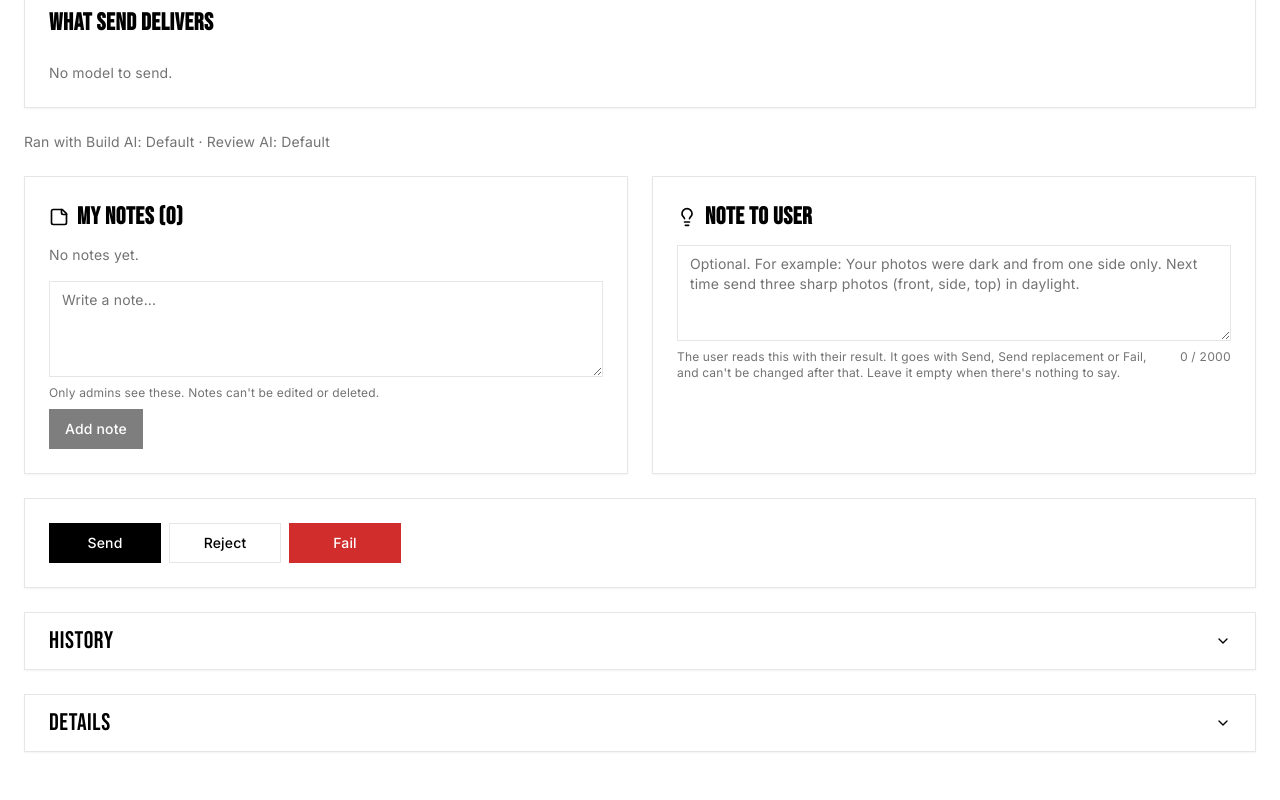
Test: AdminCadQueueDetailPage › enables Send only when every missing name is ticked
(page scrolled)
Click the button "Send" at (105, 543), box [49,523,161,563]
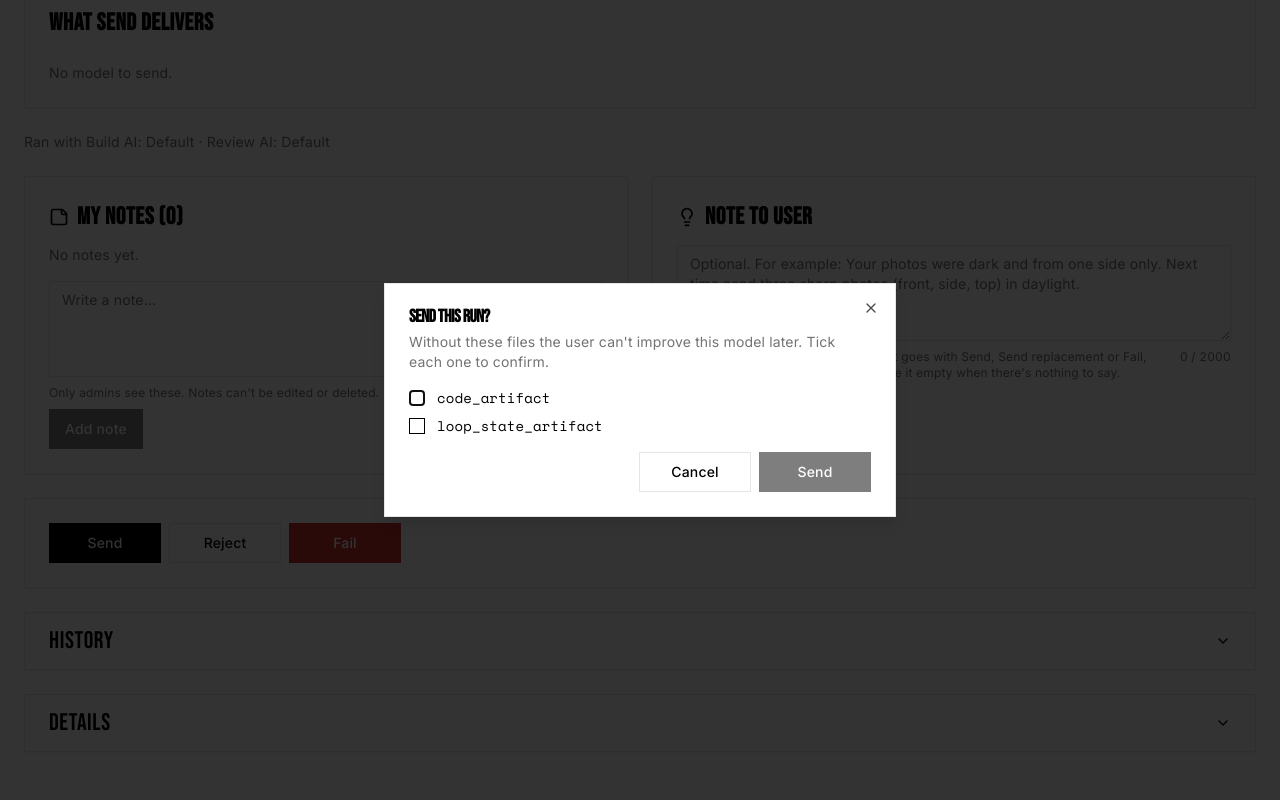
Now the text "Without these files the user can't improve this model later. Tick each one to confirm." is shown, box [409,333,835,370]
Now the button "Send" is disabled, box [759,452,871,492]
Click the checkbox named "code_artifact" next to "code_artifact" at (417, 398), box [409,390,425,406]
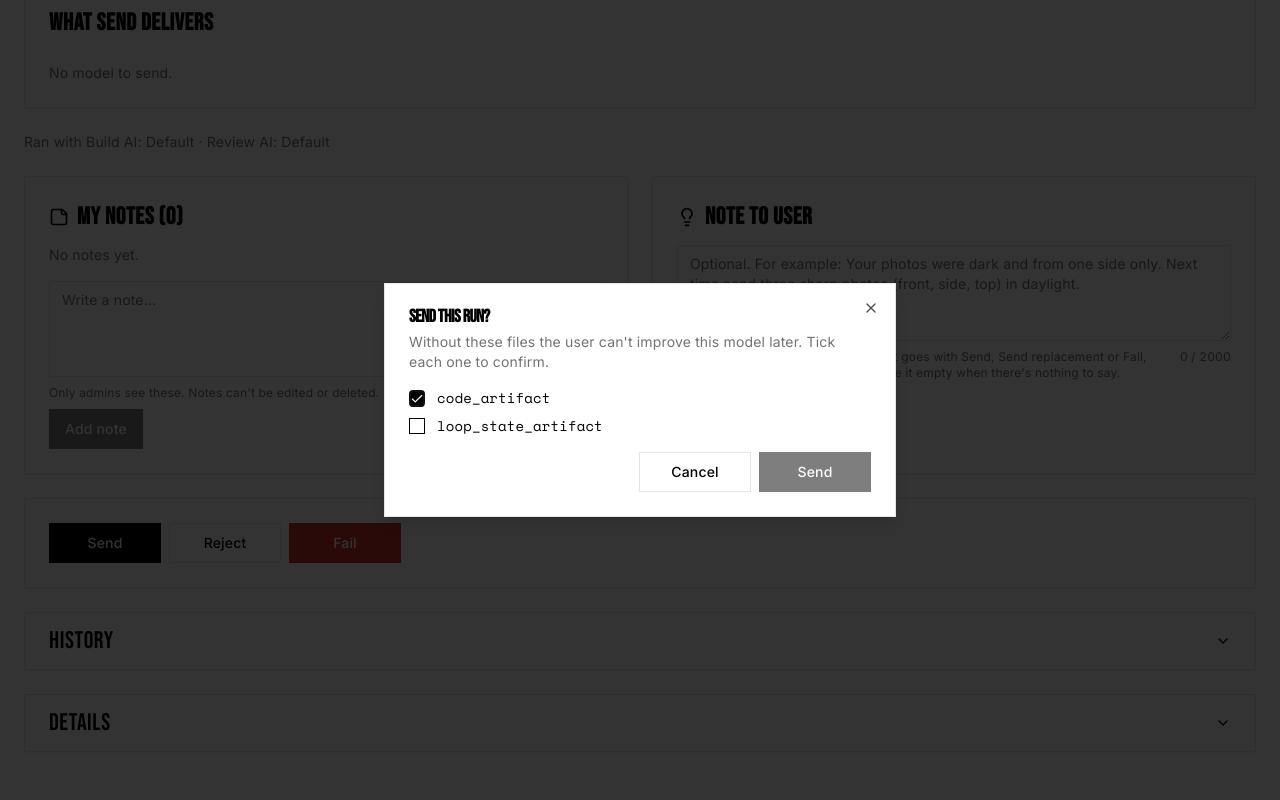
Now the button "Send" is disabled, box [759,452,871,492]
Click the checkbox named "loop_state_artifact" next to "loop_state_artifact" at (417, 426), box [409,418,425,434]
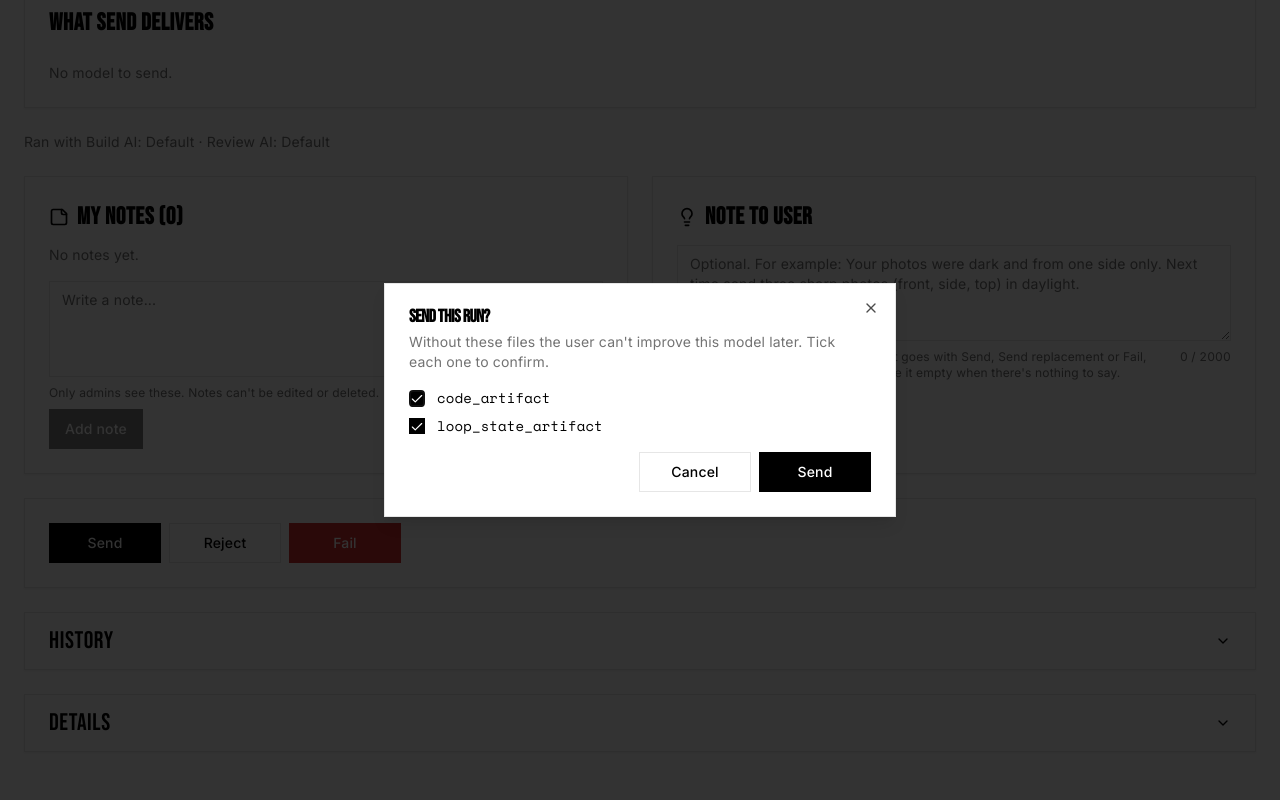
Now the button "Send" is enabled
Click the button "Send" at (815, 472), box [759,452,871,492]
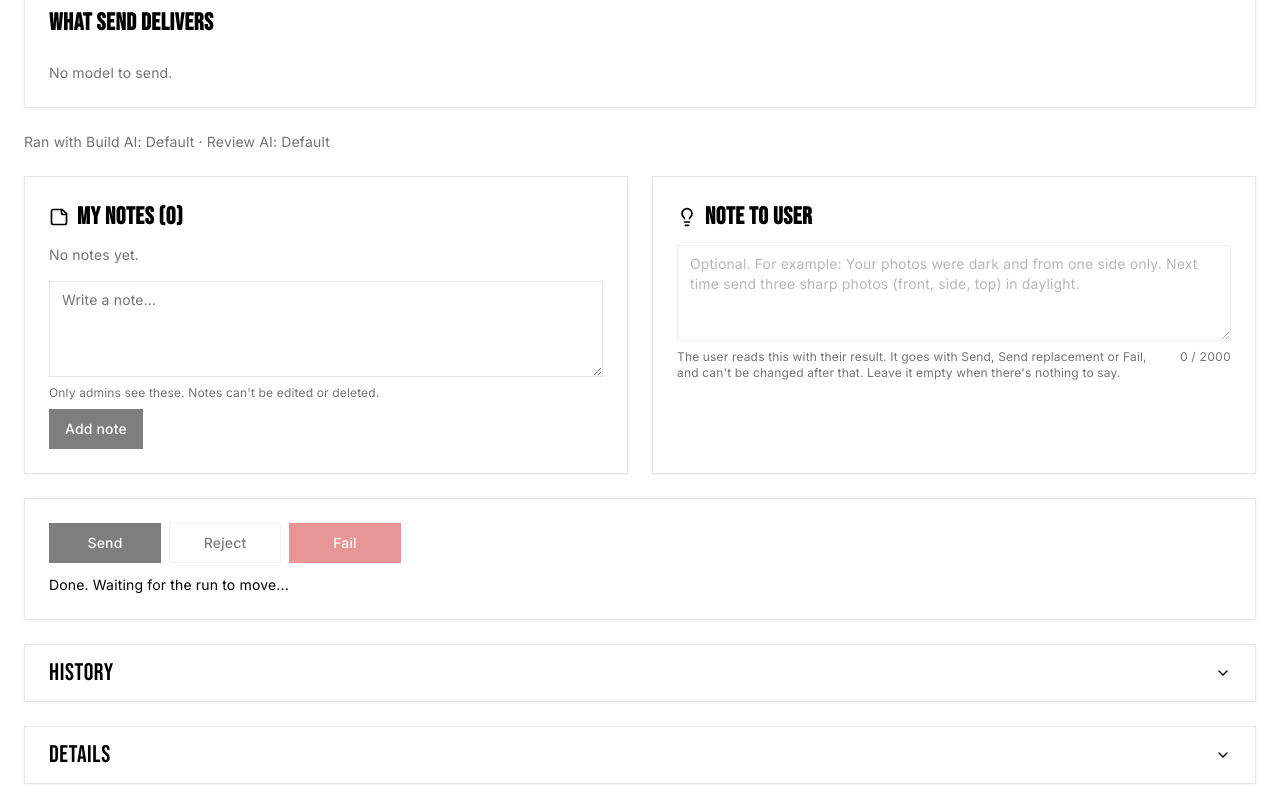
Now the text "Done. Waiting for the run to move..." is shown, box [49,576,289,593]
